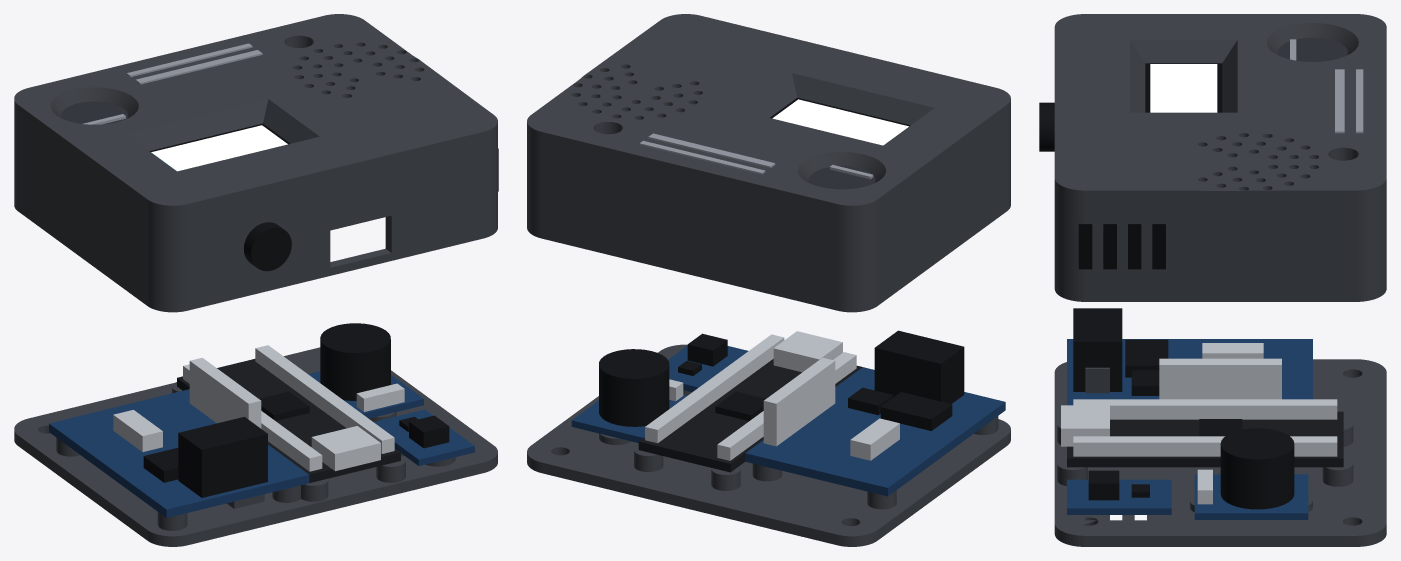
Rendered from enclosure-layout2.glb.
3 renders of one model, left to right at view 1: azimuth 30°, elevation 25°; view 2: azimuth 150°, elevation 25°; view 3: azimuth 270°, elevation 25°, orthographic. The views are drawn at different scales.
Parts seen in each view (by area): view 1: lid, shell_rear_panel, shell_walls, base_plate, can_pcb, can_terminal, buzzer_body, display_bezel, nano_pcb, nano_header_r, can_header, oled_pixels (+15 smaller); view 2: lid, shell_walls, base_plate, can_pcb, can_terminal, nano_pcb, buzzer_body, display_bezel, can_header, nano_header_r, oled_pixels, can_mcp2515 (+13 smaller); view 3: lid, shell_walls, base_plate, nano_pcb, buzzer_body, can_header, nano_header_l, can_pcb, display_bezel, nano_header_r, can_terminal, oled_pixels (+22 smaller).
Boxes of the visible parts, x1,y1,x2,y2 form: lid: (14,14,497,221); shell_rear_panel: (203,151,467,306); shell_walls: (14,116,497,312); base_plate: (14,347,497,546); can_pcb: (49,389,309,517); can_terminal: (178,416,267,497); buzzer_body: (320,323,390,400); display_bezel: (126,99,319,150); nano_pcb: (177,359,400,482); nano_header_r: (255,345,394,453); can_header: (189,357,261,428); oled_pixels: (151,125,287,171); lid: (527,14,1010,221); shell_walls: (527,115,1010,312); base_plate: (527,344,1010,546); can_pcb: (745,367,1005,496); can_terminal: (874,330,964,403); nano_pcb: (638,359,862,472); buzzer_body: (599,349,669,426); display_bezel: (741,73,933,125); can_header: (763,357,835,446); nano_header_r: (645,334,784,443); oled_pixels: (772,99,908,145); can_mcp2515: (880,392,952,430); lid: (1054,14,1386,207); shell_walls: (1054,195,1386,301); base_plate: (1054,359,1386,546); nano_pcb: (1067,411,1343,467); buzzer_body: (1220,428,1294,509); can_header: (1159,358,1281,399); nano_header_l: (1073,399,1337,419); can_pcb: (1067,339,1312,405); display_bezel: (1130,40,1237,112); nano_header_r: (1073,436,1337,456); can_terminal: (1073,308,1122,391); oled_pixels: (1150,64,1217,112).
Size of the model in its own units: 0.0683 by 0.0643 by 0.0565.
